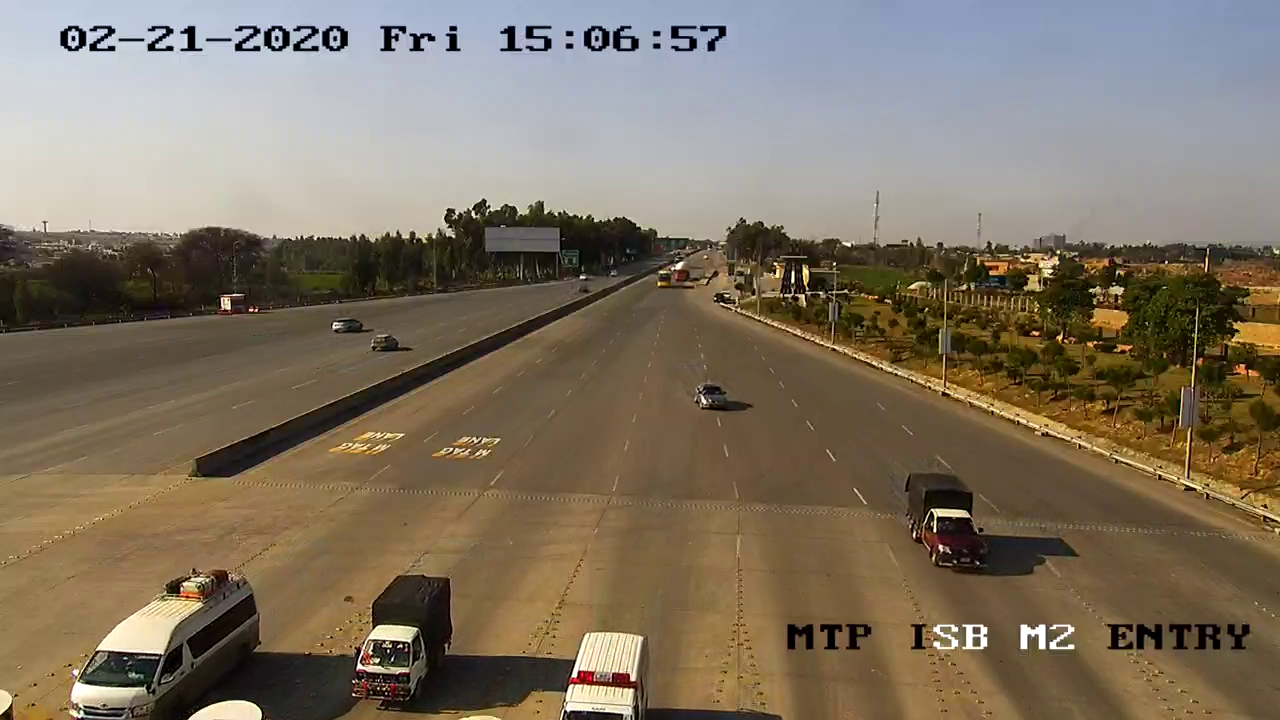f1: (331, 551, 468, 720)
f2: (57, 555, 272, 719), (892, 460, 1002, 580)
